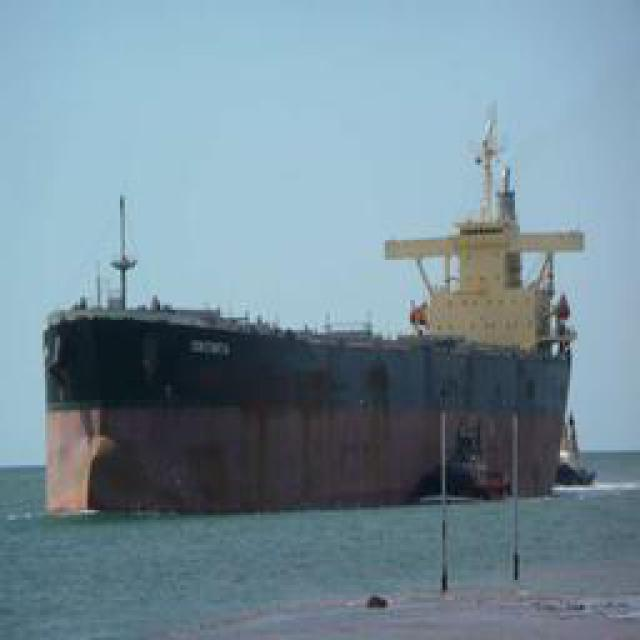Ship: (30, 95, 588, 517)
